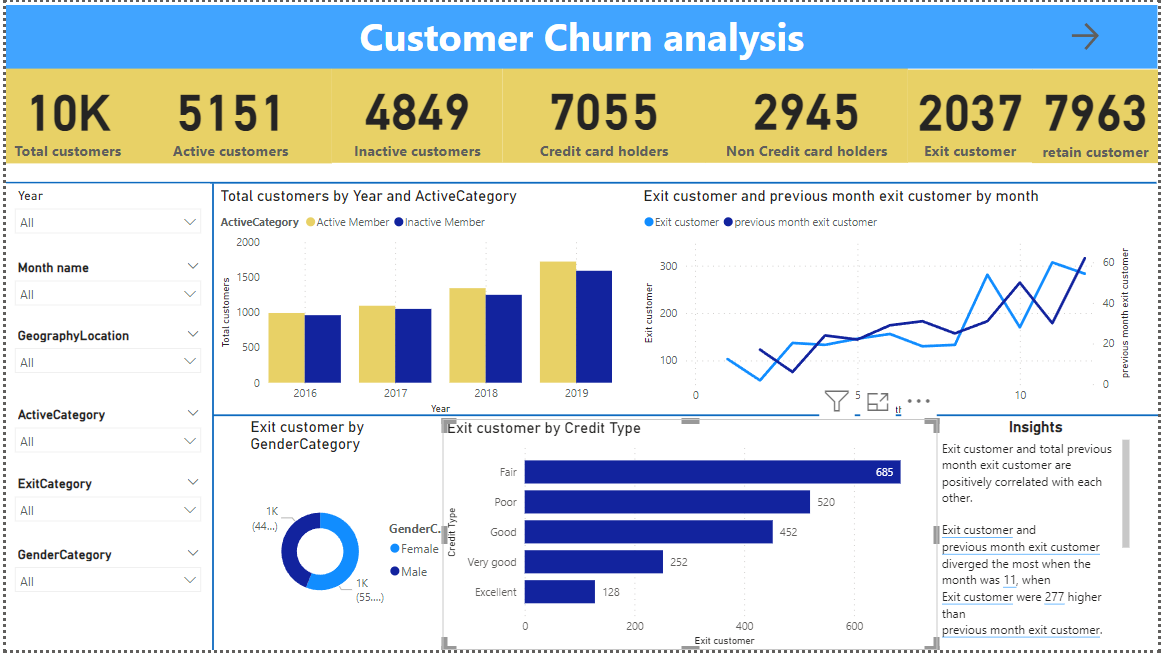

The dashboard page shown, as its layout file describes it:
{"tool":"powerbi","page":{"name":"Home","canvas":[1280,720],"ordinal":0},"visuals":[{"type":"card","fields":{"Values":["Calculations.Total customers"]},"box":[0,73.9,136.6,106.1],"z":0},{"type":"card","fields":{"Values":["Calculations.Active customers"]},"box":[136.2,73.9,225,106.1],"z":1},{"type":"card","fields":{"Values":["Calculations.Inactive customers"]},"box":[361.7,73.3,190,105],"z":2},{"type":"card","fields":{"Values":["Calculations.Credit card holders"]},"box":[551.7,73.3,225,105],"z":3},{"type":"card","fields":{"Values":["Calculations.Non Credit card holders"]},"box":[776.7,73.3,225,105],"z":4},{"type":"textbox","box":[0,3.2,1279.5,70.7],"z":6},{"type":"card","fields":{"Values":["Calculations.Exit customer"]},"box":[1001.7,75,138.3,103.3],"z":7},{"type":"card","fields":{"Values":["Calculations.retain customer"]},"box":[1140.4,75,140.4,103.8],"z":8},{"type":"shape","box":[0,193.3,1278.3,15],"z":9},{"type":"shape","box":[193.3,201.7,73.3,518.3],"z":10},{"type":"slicer","fields":{"Values":["DateMaster.year"]},"box":[0,201.7,226.7,75],"z":11},{"type":"slicer","fields":{"Values":["Geography.GeographyLocation"]},"box":[0,356.7,226.7,75],"z":13},{"type":"slicer","fields":{"Values":["DateMaster.Month name"]},"box":[0,281.7,226.7,63.3],"z":14},{"type":"slicer","fields":{"Values":["ActiveCustomer.ActiveCategory"]},"box":[0,445,226.7,75],"z":15},{"type":"slicer","fields":{"Values":["Exitcustomer.ExitCategory"]},"box":[0,521.7,226.7,75],"z":17},{"type":"clusteredColumnChart","fields":{"Category":["DateMaster.year","DateMaster.Month name"],"Series":["ActiveCustomer.ActiveCategory"],"Y":["Calculations.Total customers"]},"box":[233.3,205,445,256.7],"z":18},{"type":"slicer","fields":{"Values":["Gender.GenderCategory"]},"box":[0,600,226.7,75],"z":19},{"type":"lineChart","fields":{"Category":["DateMaster.month"],"Y2":["Calculations.previous month exit customer"],"Y":["Calculations.Exit customer"]},"box":[703.3,205,550,258.3],"z":20},{"type":"donutChart","fields":{"Category":["Gender.GenderCategory"],"Y":["Calculations.Exit customer"]},"box":[266.7,461.7,240,258.3],"z":21},{"type":"clusteredBarChart","fields":{"Y":["Calculations.Exit customer"],"Category":["Bank_Churn.Credit Type"]},"box":[485,463.3,550,256.7],"z":22},{"type":"actionButton","box":[1178.3,18.3,100,40],"z":23},{"type":"textbox","title":"Insights","box":[1035,461.7,218.3,258.3],"z":24},{"type":"shape","box":[230,455,1050,8.3],"z":25}]}

Visuals, with their boxes in screenshot pixels (x1, y1, x2, y2), scaled from the page's 1280x720 canvas onto the 1165x656 screenshot:
card - Calculations.Total customers: BBox(0, 67, 124, 164)
card - Calculations.Active customers: BBox(124, 67, 329, 164)
card - Calculations.Inactive customers: BBox(329, 67, 502, 162)
card - Calculations.Credit card holders: BBox(502, 67, 707, 162)
card - Calculations.Non Credit card holders: BBox(707, 67, 912, 162)
textbox: BBox(0, 3, 1164, 67)
card - Calculations.Exit customer: BBox(912, 68, 1038, 162)
card - Calculations.retain customer: BBox(1038, 68, 1164, 163)
shape: BBox(0, 176, 1163, 190)
shape: BBox(176, 184, 243, 655)
slicer - DateMaster.year: BBox(0, 184, 206, 252)
slicer - Geography.GeographyLocation: BBox(0, 325, 206, 393)
slicer - DateMaster.Month name: BBox(0, 257, 206, 314)
slicer - ActiveCustomer.ActiveCategory: BBox(0, 405, 206, 474)
slicer - Exitcustomer.ExitCategory: BBox(0, 475, 206, 544)
clusteredColumnChart - DateMaster.year x DateMaster.Month name: BBox(212, 187, 617, 421)
slicer - Gender.GenderCategory: BBox(0, 547, 206, 615)
lineChart - DateMaster.month x Calculations.previous month exit customer: BBox(640, 187, 1141, 422)
donutChart - Gender.GenderCategory x Calculations.Exit customer: BBox(243, 421, 461, 655)
clusteredBarChart - Calculations.Exit customer x Bank_Churn.Credit Type: BBox(441, 422, 942, 655)
actionButton: BBox(1072, 17, 1163, 53)
"Insights" textbox: BBox(942, 421, 1141, 655)
shape: BBox(209, 415, 1164, 422)
